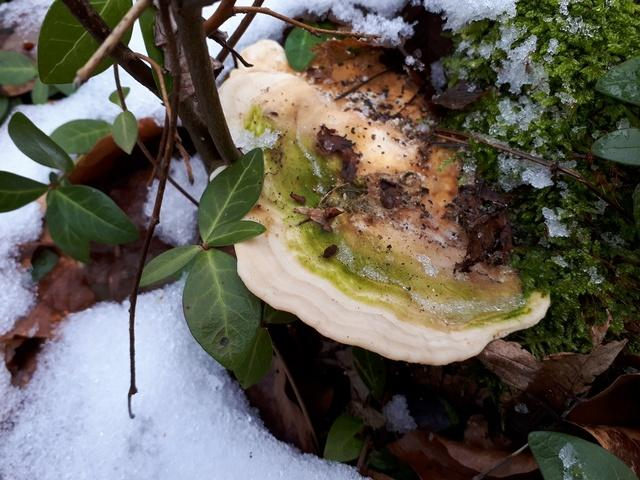Non-edible Mushroom: (207, 37, 552, 366)
